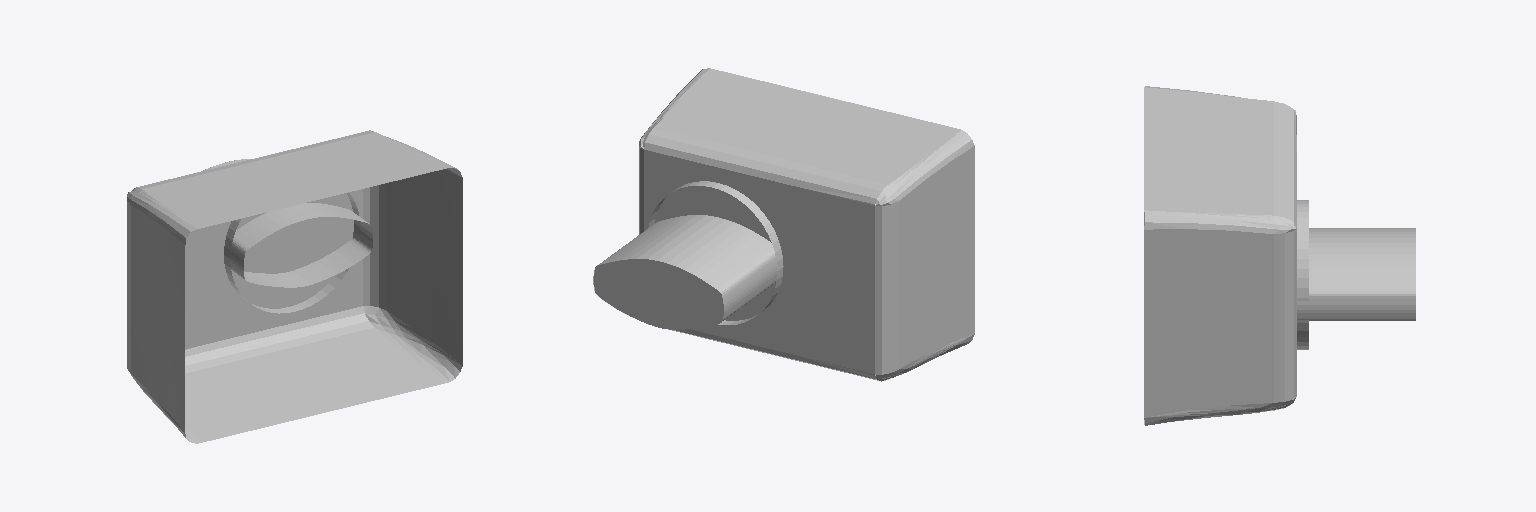
File: housesp_033.obj
The picture shows the model from 3 angles: view 1: azimuth 30°, elevation 25°; view 2: azimuth 150°, elevation 25°; view 3: azimuth 270°, elevation 25°; orthographic projection.
Bounding box in the file's own units: 10.84 × 8.01 × 9.21.